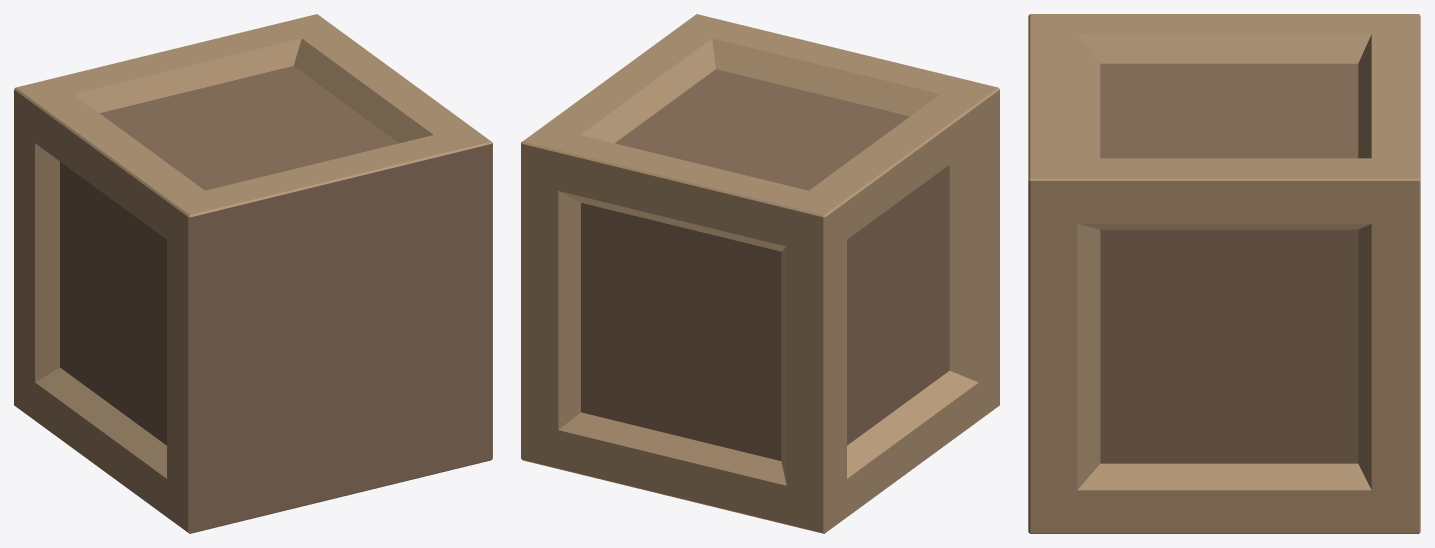
3 views of the same model, side by side, from view 1: azimuth 30°, elevation 25°; view 2: azimuth 150°, elevation 25°; view 3: azimuth 270°, elevation 25° (orthographic). The views are drawn at different scales.
Visible parts, largest first — view 1: Cube.002; view 2: Cube.002; view 3: Cube.002.
Part boxes in pixels (x1=…): Cube.002: x1=14, y1=14, x2=492, y2=533; Cube.002: x1=521, y1=14, x2=999, y2=533; Cube.002: x1=1028, y1=14, x2=1420, y2=533.
Bounding box in the file's own units: 200 × 200 × 200.
